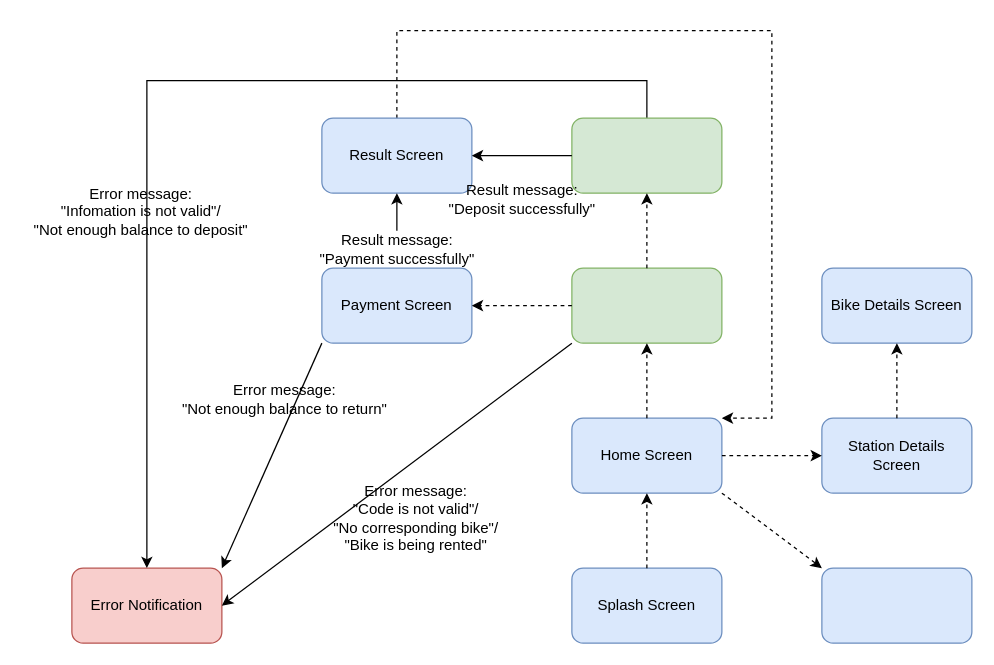
Some shapes in this 994 by 665 pixel diagram are drawn without their labels. Each missing label, with the centre of its shape:
Barcode Form: (x=646, y=305)
Deposit Form: (x=646, y=155)
Rental Bike Screen: (x=896, y=605)
